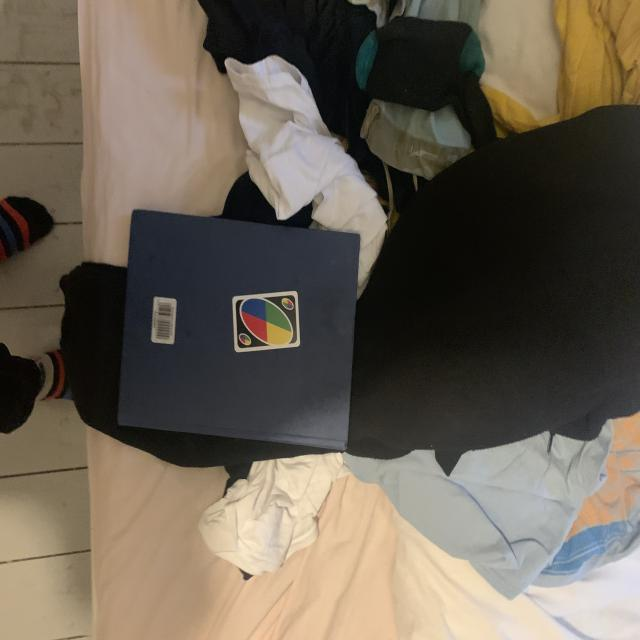lcolor-40: (280, 296, 294, 312)
